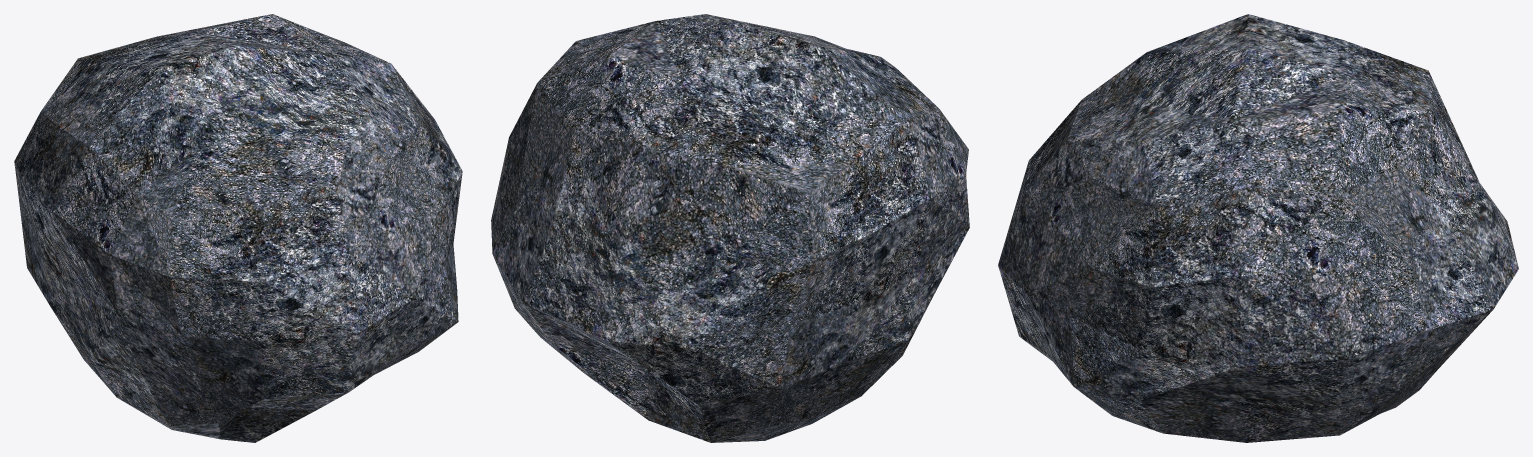
The model's file is asteroid_iron_medium_s02_l1.fbx.
3 renders of one model, left to right at view 1: azimuth 30°, elevation 25°; view 2: azimuth 150°, elevation 25°; view 3: azimuth 270°, elevation 25°, orthographic. The views are drawn at different scales.
Parts seen in each view (by area): view 1: mesh_node; view 2: mesh_node; view 3: mesh_node.
Part boxes in pixels (bbox=[...]): mesh_node: bbox=[14, 14, 462, 442]; mesh_node: bbox=[491, 14, 969, 442]; mesh_node: bbox=[998, 14, 1518, 442].
Size of the model in its own units: 56.06 by 51.76 by 62.88.
